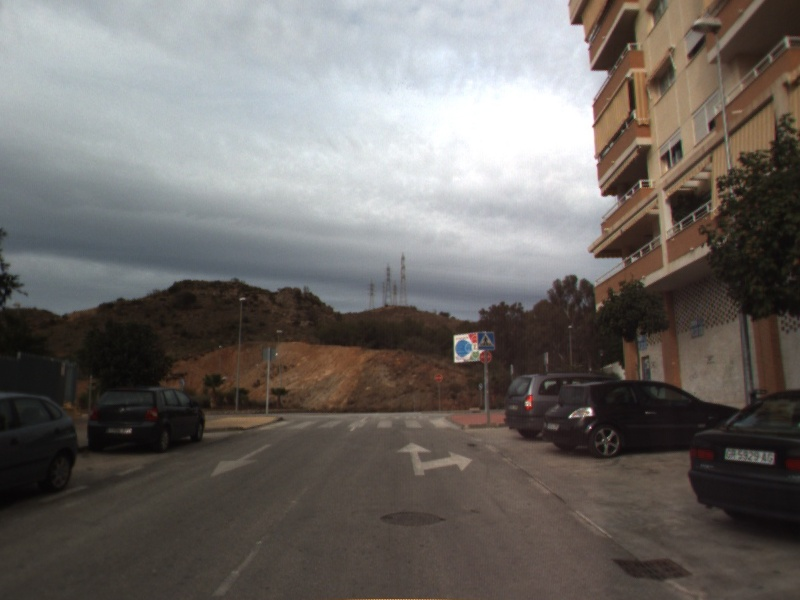STRAIGHT_RIGHT: (395, 440, 475, 477)
